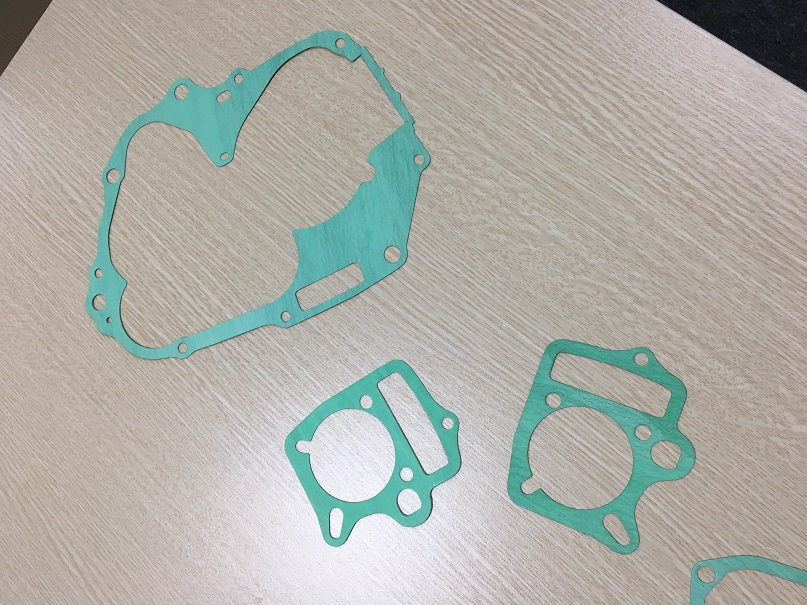type3: (64, 24, 446, 365)
type4: (500, 331, 701, 563), (264, 356, 473, 555)
